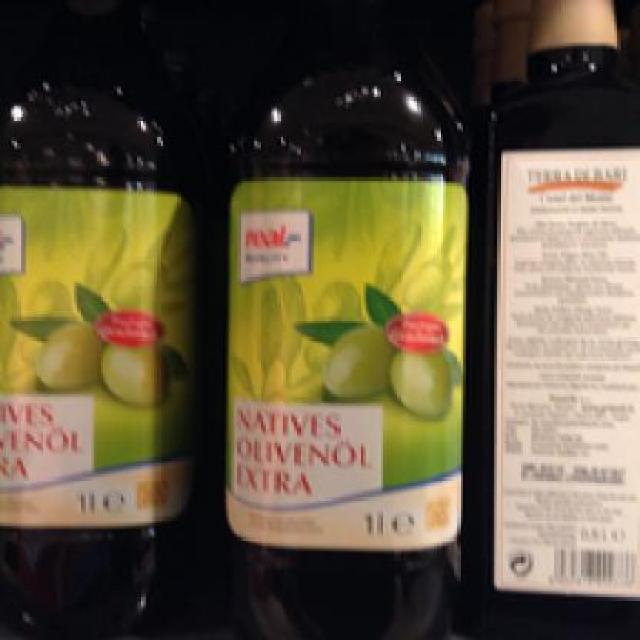Oil: (212, 0, 468, 637), (0, 6, 209, 634), (467, 0, 638, 615)
